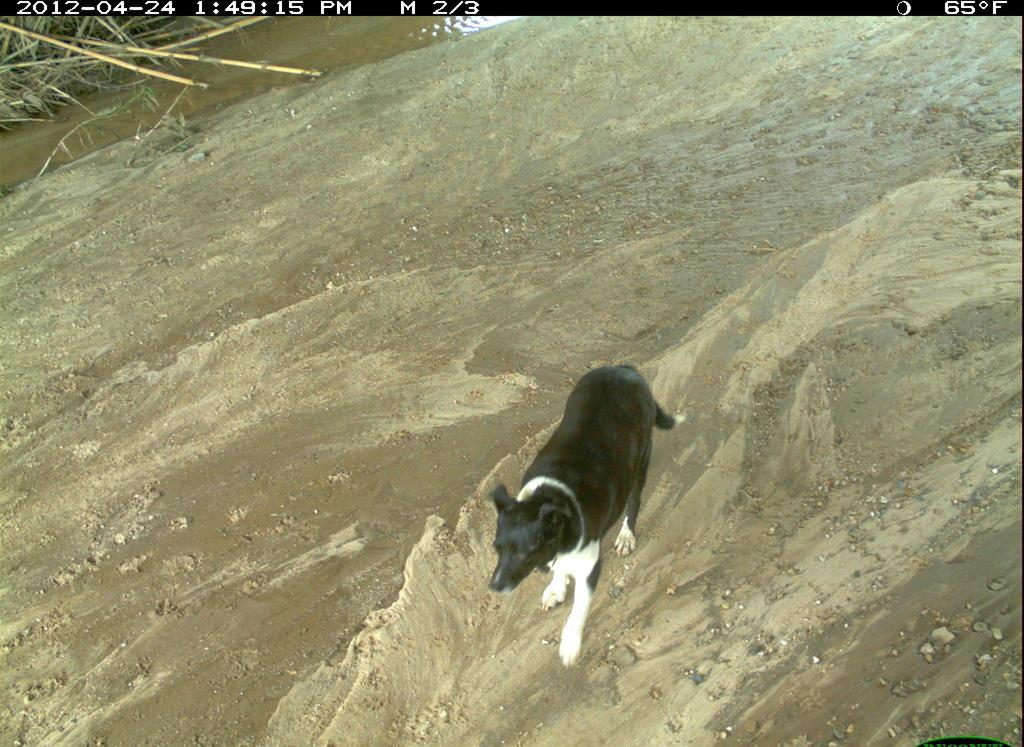dog: (973, 720, 1024, 747)
